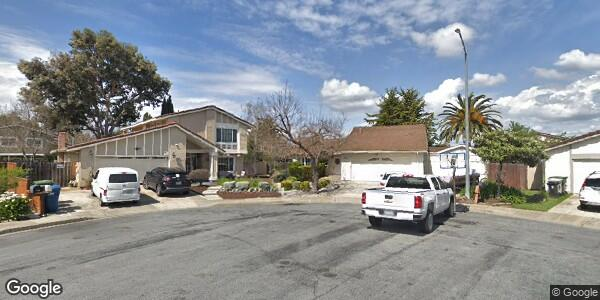Steel_Pole: (453, 27, 475, 201)
